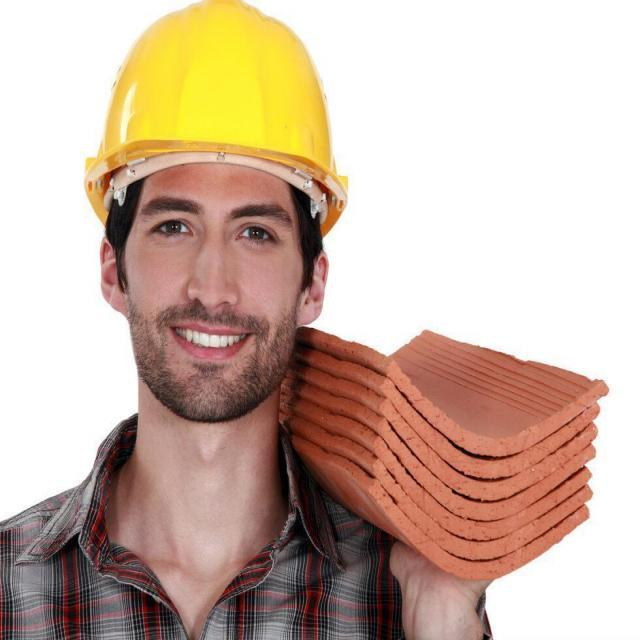hat: (85, 2, 348, 230)
